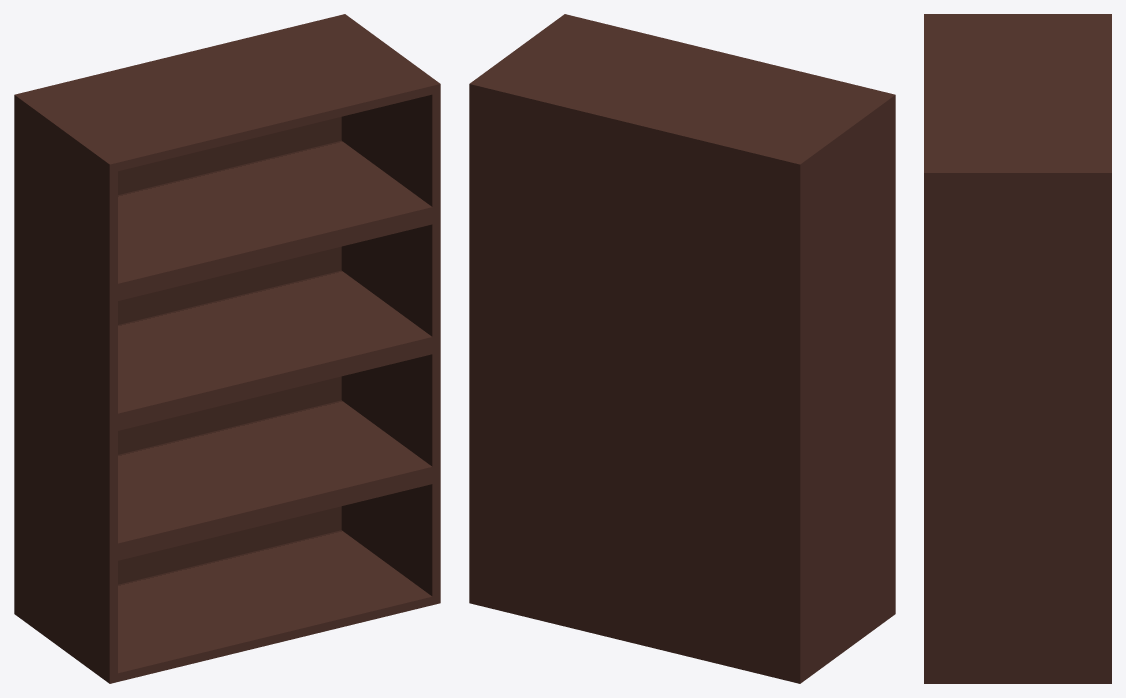
The model's file is shelf.glb.
The picture shows the model from 3 angles, left to right: view 1: azimuth 30°, elevation 25°; view 2: azimuth 150°, elevation 25°; view 3: azimuth 270°, elevation 25°; orthographic projection.
Visible parts, largest first — view 1: Shelf; view 2: Shelf; view 3: Shelf.
Boxes of the visible parts, x1=… form: Shelf: x1=14, y1=14, x2=440, y2=683; Shelf: x1=469, y1=14, x2=895, y2=683; Shelf: x1=924, y1=14, x2=1111, y2=683.
Bounding box in the file's own units: 4 × 6 × 2.
1 material, 1 textured.
